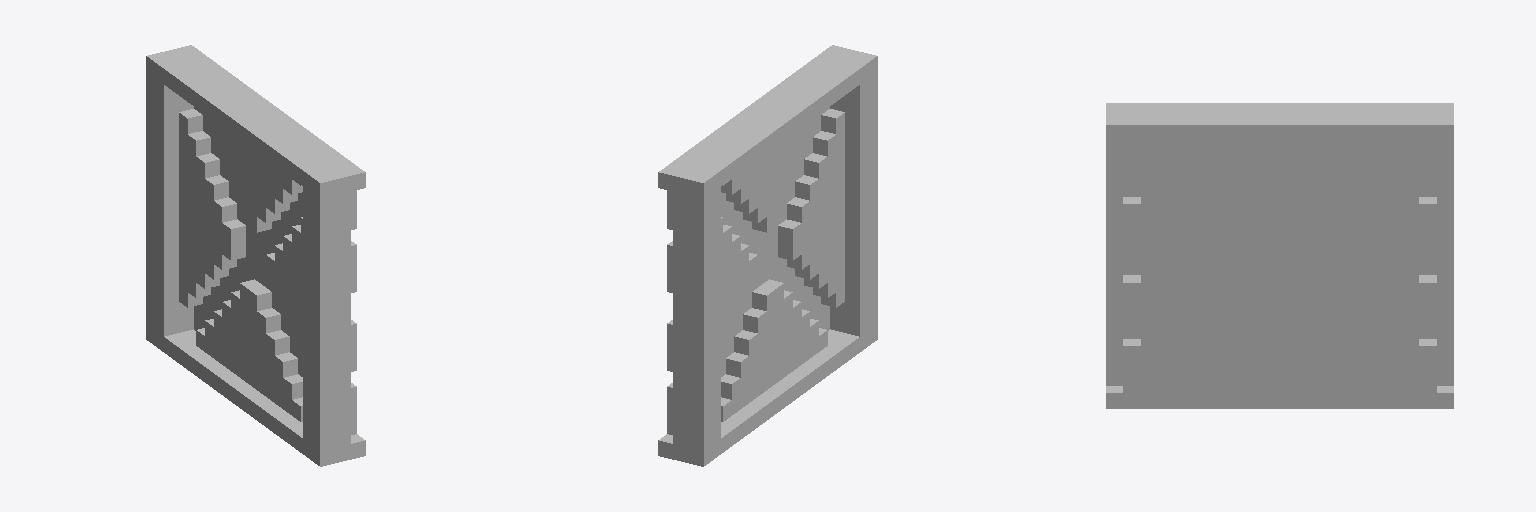
Rendered from caja 2 partida-4.obj.
The picture shows the model from 3 angles: view 1: azimuth 30°, elevation 25°; view 2: azimuth 150°, elevation 25°; view 3: azimuth 270°, elevation 25°; orthographic projection.
Parts seen in each view (by area): view 1: object 1; view 2: object 1; view 3: object 1.
Part boxes in pixels (left/top/right/bottom): object 1: left=146, top=45, right=365, bottom=466; object 1: left=658, top=45, right=877, bottom=466; object 1: left=1106, top=103, right=1453, bottom=408.
Size of the model in its own units: 0.3 by 1.8 by 2.